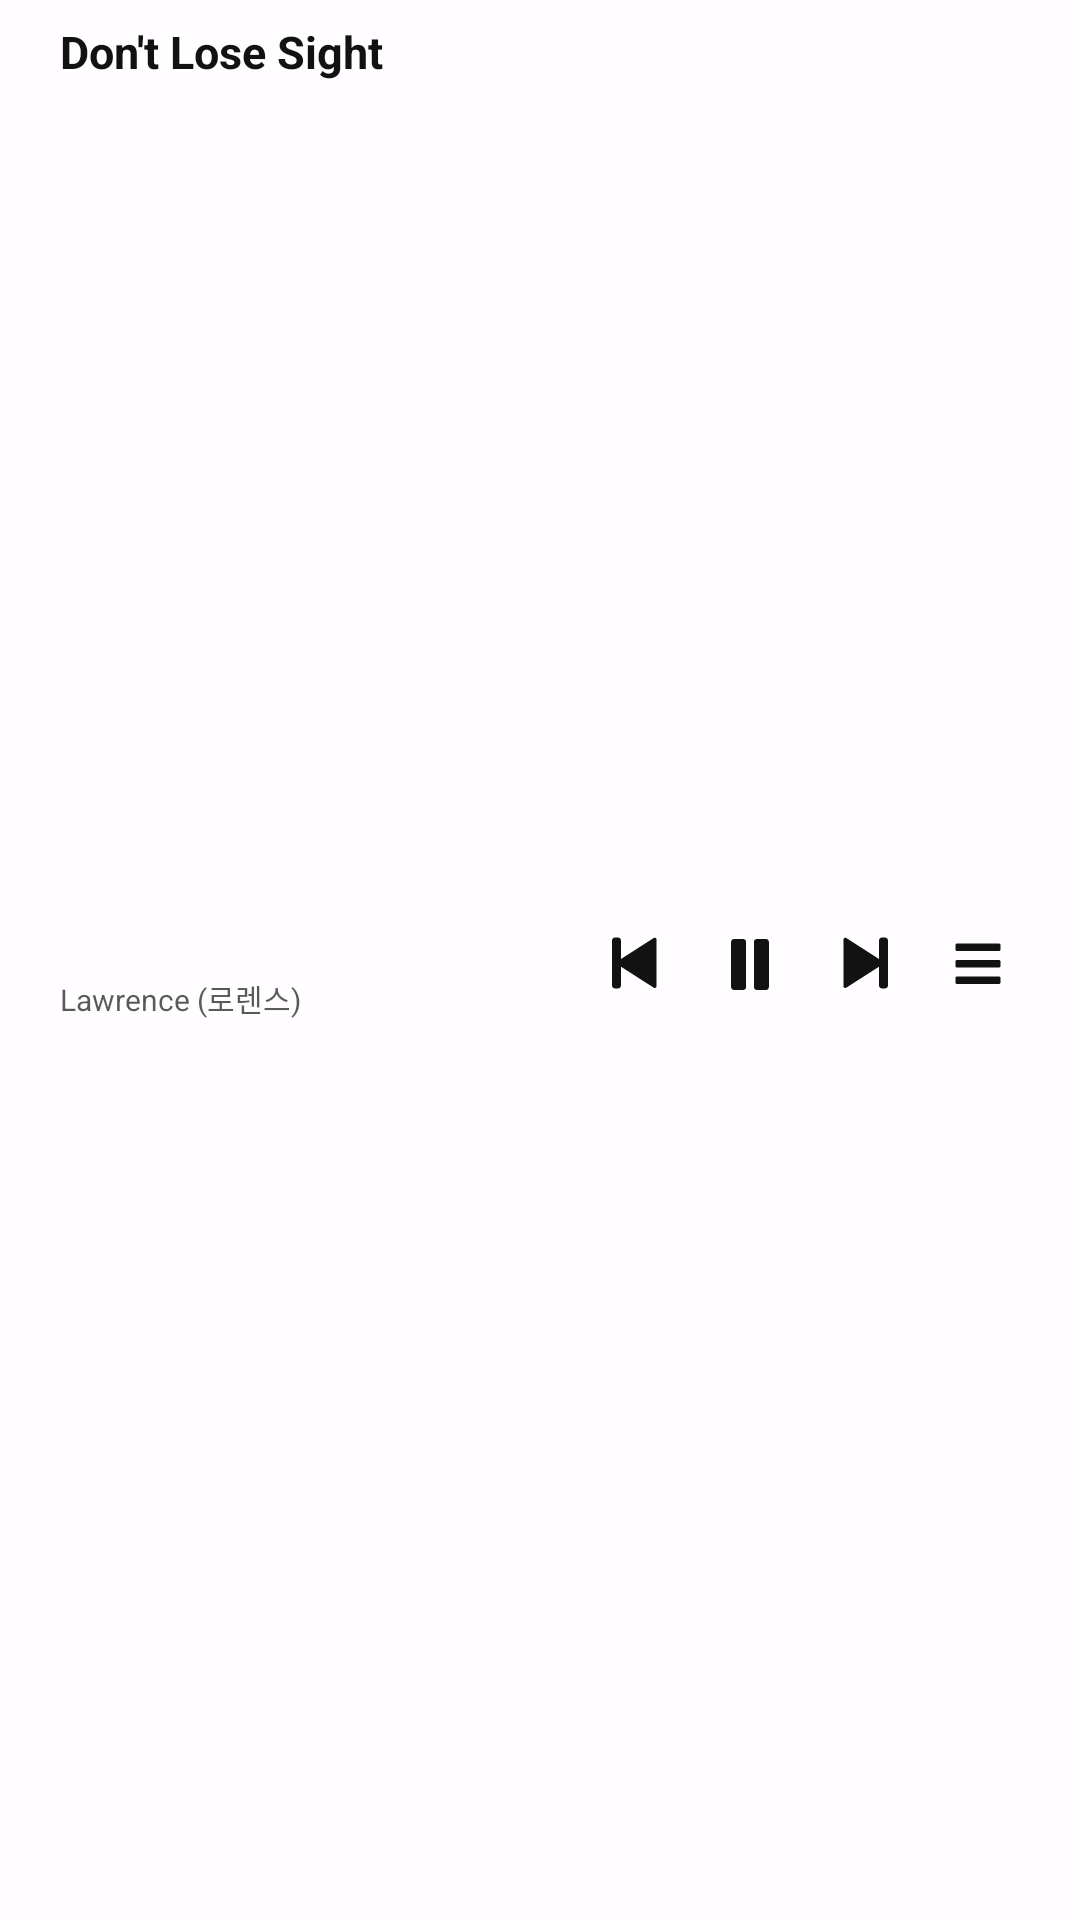

Where icons sit on this 1080x1920 app screen, as {"left": x1, "top": y1, "right": x2, "bottom": y2}:
controller next music: {"left": 843, "top": 937, "right": 888, "bottom": 989}
controller pause: {"left": 731, "top": 939, "right": 769, "bottom": 990}
controller play list: {"left": 955, "top": 943, "right": 1001, "bottom": 984}
controller previous music: {"left": 612, "top": 937, "right": 657, "bottom": 989}
